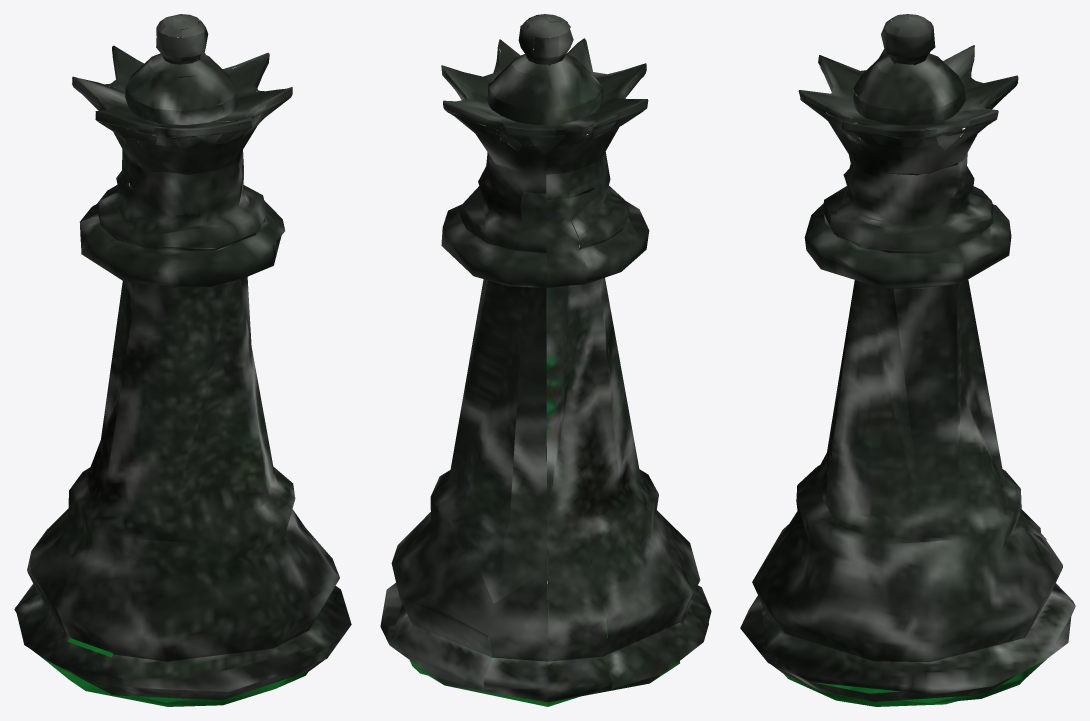
The picture shows the model from 3 angles, left to right: view 1: azimuth 30°, elevation 25°; view 2: azimuth 150°, elevation 25°; view 3: azimuth 270°, elevation 25°; orthographic projection.
Visible parts, largest first — view 1: BQ; view 2: BQ; view 3: BQ.
Boxes of the visible parts, x1=… form: BQ: x1=14, y1=14, x2=351, y2=706; BQ: x1=380, y1=14, x2=711, y2=706; BQ: x1=740, y1=14, x2=1075, y2=706.
Bounding box in the file's own units: 0.0401 × 0.0833 × 0.04.
Materials: 1 (1 with a texture image).
